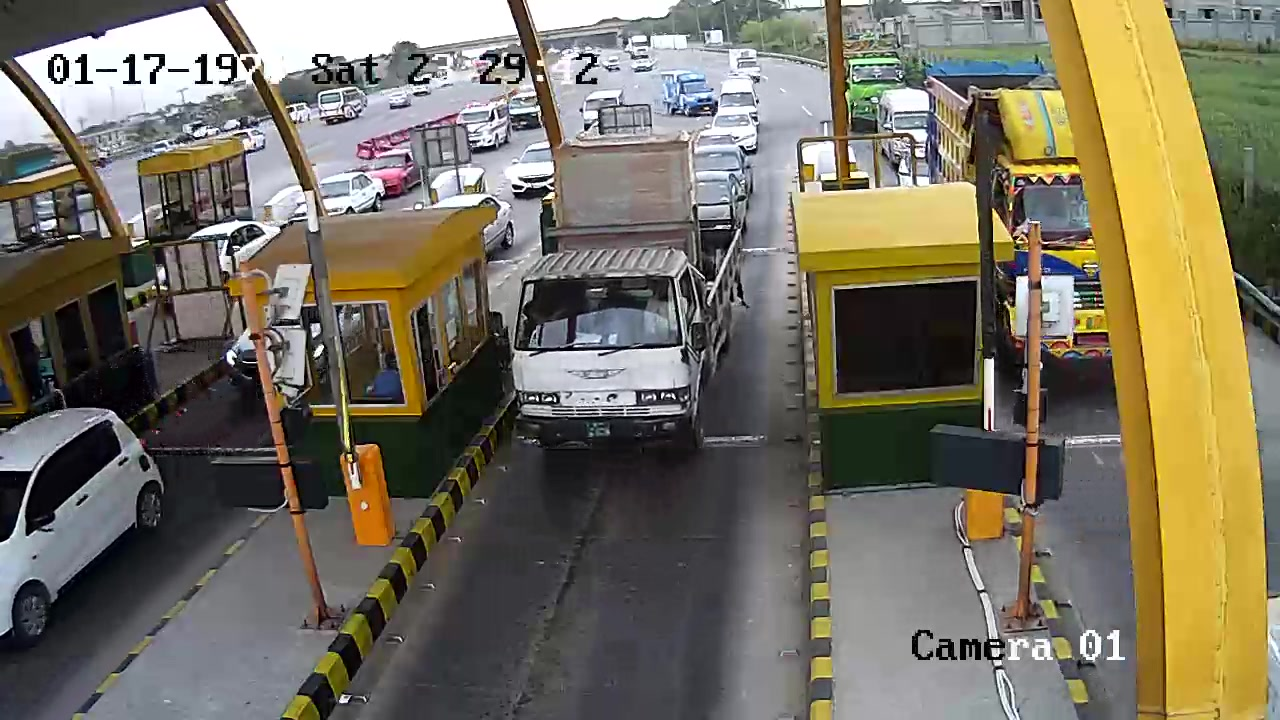F3: (521, 128, 732, 457)
